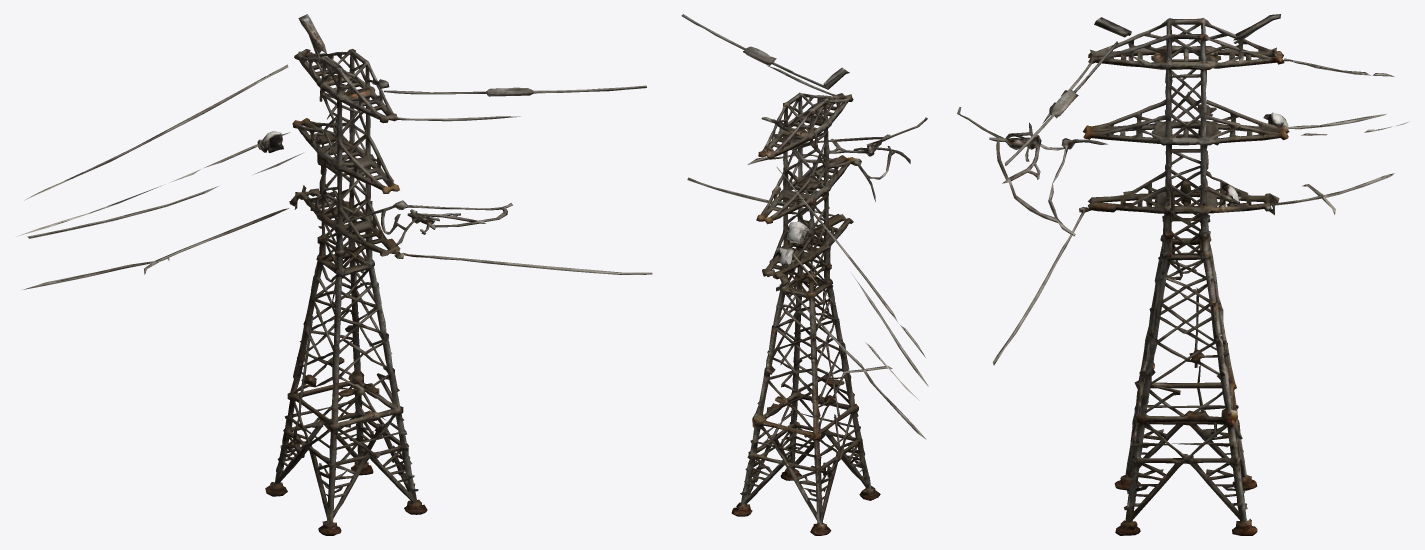
Rendered from bg_pylon.glb.
The picture shows the model from 3 angles, left to right: view 1: azimuth 30°, elevation 25°; view 2: azimuth 150°, elevation 25°; view 3: azimuth 270°, elevation 25°; orthographic projection. The views are drawn at different scales.
Parts seen in each view (by area): view 1: tripo_node_329c97e3-18b7-41bc-98c3-03ad9899bb53; view 2: tripo_node_329c97e3-18b7-41bc-98c3-03ad9899bb53; view 3: tripo_node_329c97e3-18b7-41bc-98c3-03ad9899bb53.
Part boxes in pixels (bbox=[...]): tripo_node_329c97e3-18b7-41bc-98c3-03ad9899bb53: bbox=[16, 14, 652, 535]; tripo_node_329c97e3-18b7-41bc-98c3-03ad9899bb53: bbox=[681, 14, 928, 535]; tripo_node_329c97e3-18b7-41bc-98c3-03ad9899bb53: bbox=[957, 14, 1409, 535].
Bounding box in the file's own units: 1 × 0.9718 × 0.8059.
1 material, 1 textured.
